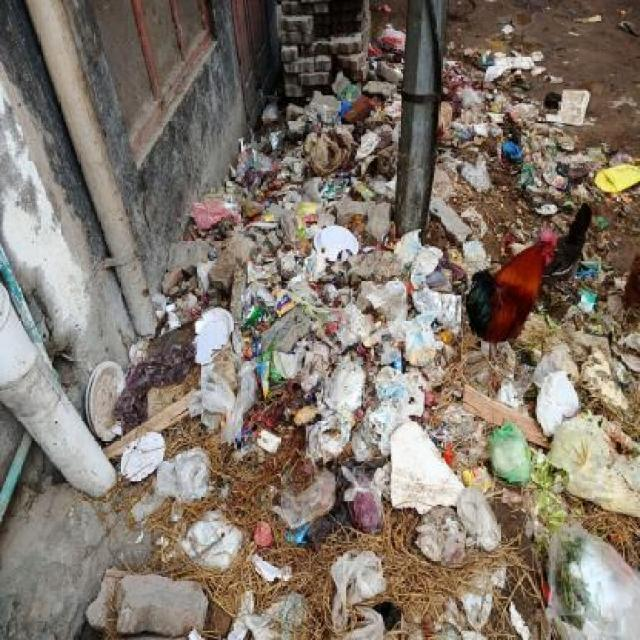garbage: (96, 34, 640, 640)
